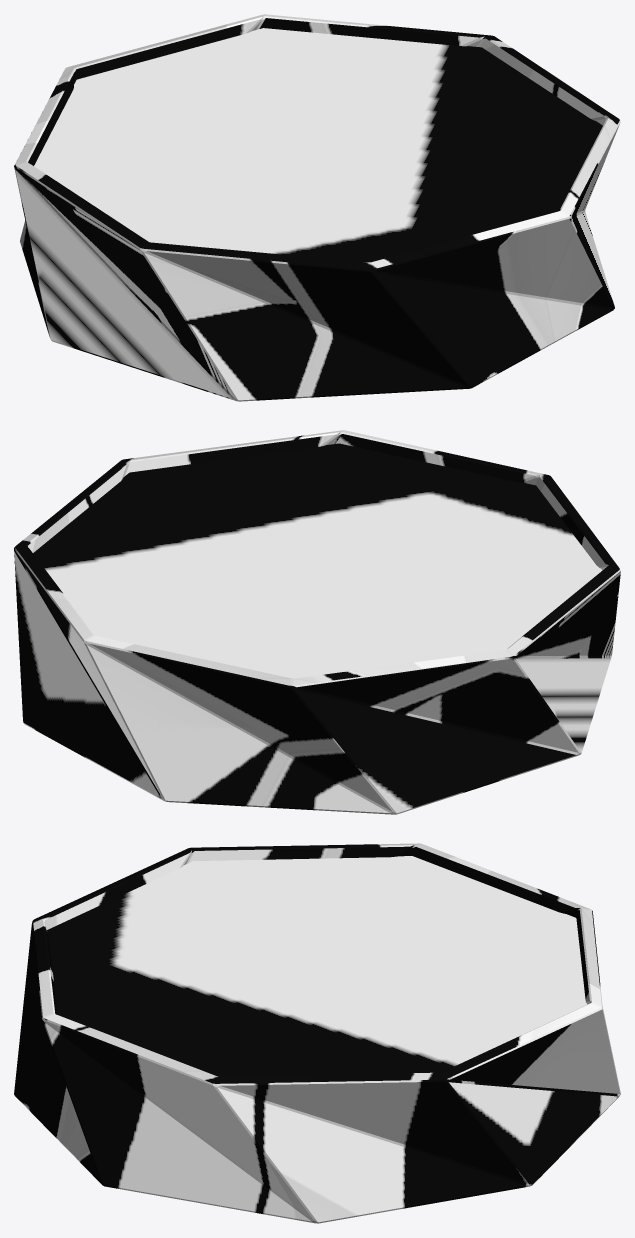
The model's file is Lighting_58cf0970-4674-4057-a1d8-0240a9c610eb_4.glb.
The picture shows the model from 3 angles, top to bottom: view 1: azimuth 30°, elevation 25°; view 2: azimuth 150°, elevation 25°; view 3: azimuth 270°, elevation 25°; orthographic projection.
Visible parts, largest first — view 1: Lighting_58cf0970-4674-4057-a1d8-0240a9c610eb_4.obj; view 2: Lighting_58cf0970-4674-4057-a1d8-0240a9c610eb_4.obj; view 3: Lighting_58cf0970-4674-4057-a1d8-0240a9c610eb_4.obj.
Part boxes in pixels (x1,y1,x2,y2): Lighting_58cf0970-4674-4057-a1d8-0240a9c610eb_4.obj: [14, 14, 620, 401]; Lighting_58cf0970-4674-4057-a1d8-0240a9c610eb_4.obj: [14, 430, 620, 814]; Lighting_58cf0970-4674-4057-a1d8-0240a9c610eb_4.obj: [14, 843, 620, 1223].
Size of the model in its own units: 0.3177 by 0.0794 by 0.3177.
1 material, 1 textured.
